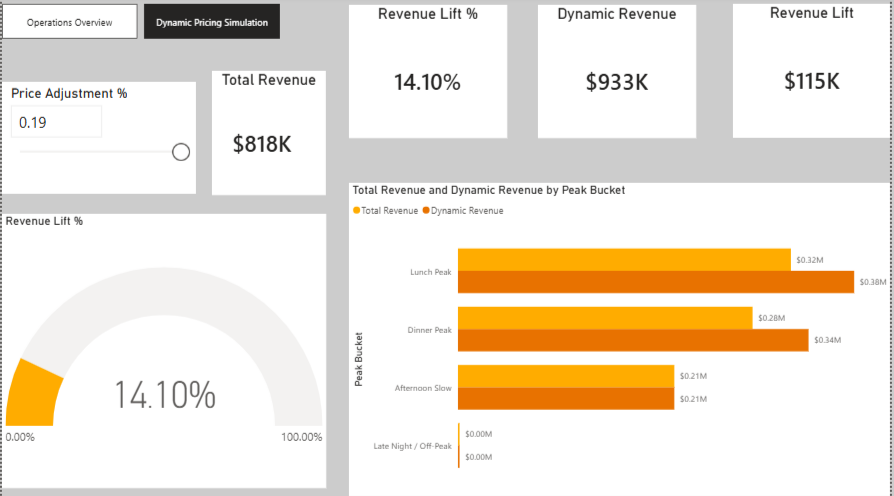

The page's visual inventory and layout, read from the dashboard file:
{"tool":"powerbi","page":{"name":"Dynamic  Pricing Simulation ","canvas":[1280,720],"ordinal":1},"visuals":[{"type":"slicer","fields":{"Values":["Price Adjustment %.Price Adjustment %"]},"box":[0,122.4,279.4,161.3],"z":0},{"type":"cardVisual","title":"Total Revenue","fields":{"Data":["-Measures.Total Revenue"]},"box":[302.4,106.6,164.2,178.6],"z":1000},{"type":"cardVisual","title":"Dynamic Revenue","fields":{"Data":["-Measures.Dynamic Revenue"]},"box":[771.8,11.5,227.5,191.5],"z":2000},{"type":"cardVisual","title":"Revenue Lift","fields":{"Data":["-Measures.Revenue Lift"]},"box":[1052.6,10.1,227.5,193],"z":3000},{"type":"cardVisual","title":"Revenue Lift %","fields":{"Data":["-Measures.Revenue Lift %"]},"box":[499.7,11.5,227.5,191.5],"z":4000},{"type":"clusteredBarChart","fields":{"Category":["pizza_sales.Peak Bucket"],"Y":["-Measures.Total Revenue","-Measures.Dynamic Revenue"]},"box":[499.7,267.8,780.5,452.2],"z":5000},{"type":"gauge","fields":{"Y":["-Measures.Revenue Lift %"]},"box":[0,312.5,466.6,394.6],"z":6000},{"type":"pageNavigator","box":[0,10.1,400.3,50.4],"z":7000}]}

Visuals, with their boxes in screenshot pixels (x1, y1, x2, y2), scaled from the page's 1280x720 canvas onto the 894x496 screenshot:
slicer - Price Adjustment %.Price Adjustment %: (x1=0, y1=84, x2=195, y2=195)
"Total Revenue" cardVisual: (x1=211, y1=73, x2=326, y2=196)
"Dynamic Revenue" cardVisual: (x1=539, y1=8, x2=698, y2=140)
"Revenue Lift" cardVisual: (x1=735, y1=7, x2=893, y2=140)
"Revenue Lift %" cardVisual: (x1=349, y1=8, x2=508, y2=140)
clusteredBarChart - pizza_sales.Peak Bucket x -Measures.Total Revenue: (x1=349, y1=184, x2=893, y2=495)
gauge - -Measures.Revenue Lift %: (x1=0, y1=215, x2=326, y2=487)
pageNavigator: (x1=0, y1=7, x2=280, y2=42)
